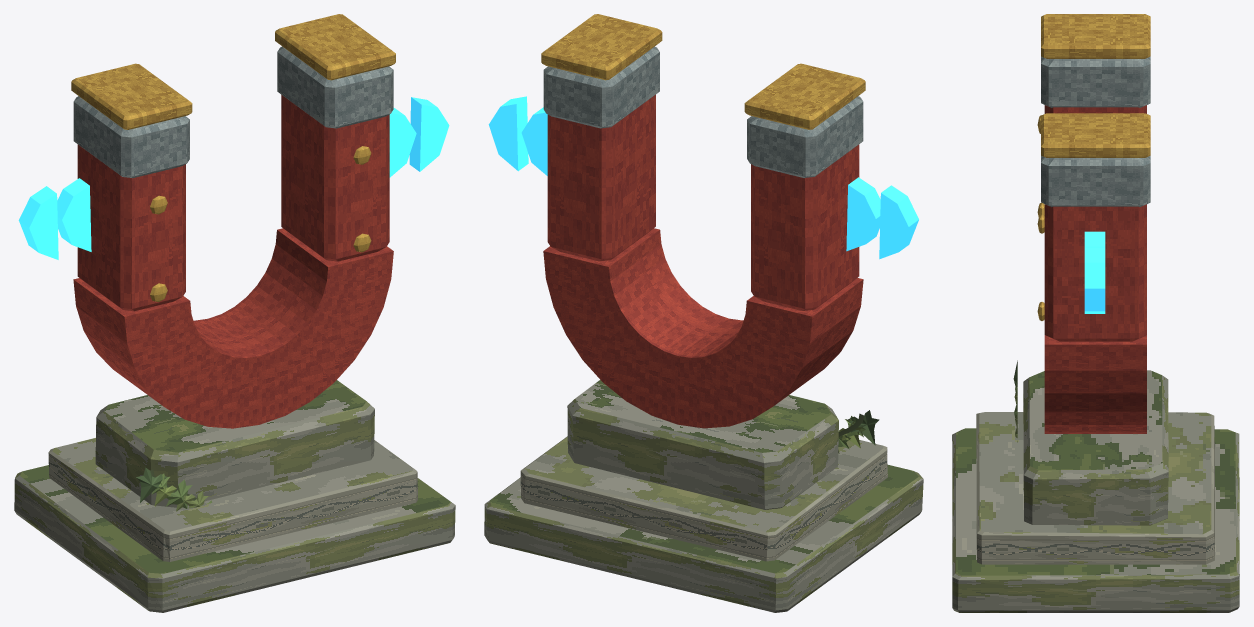
Rendered from shrine_suction.glb.
3 renders of one model, left to right at view 1: azimuth 30°, elevation 25°; view 2: azimuth 150°, elevation 25°; view 3: azimuth 270°, elevation 25°, orthographic.
Visible parts, largest first — view 1: shrine_suction; view 2: shrine_suction; view 3: shrine_suction.
Part boxes in pixels (left/top/right/bottom): shrine_suction: left=14, top=14, right=455, bottom=612; shrine_suction: left=484, top=14, right=923, bottom=612; shrine_suction: left=952, top=14, right=1239, bottom=612.
Bounding box in the file's own units: 2.56 × 2.68 × 1.52.
Materials: 4 (2 with a texture image).
